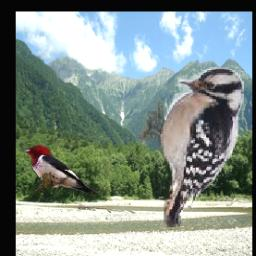Woodpecker: (139, 68, 244, 228), (18, 144, 102, 194)
